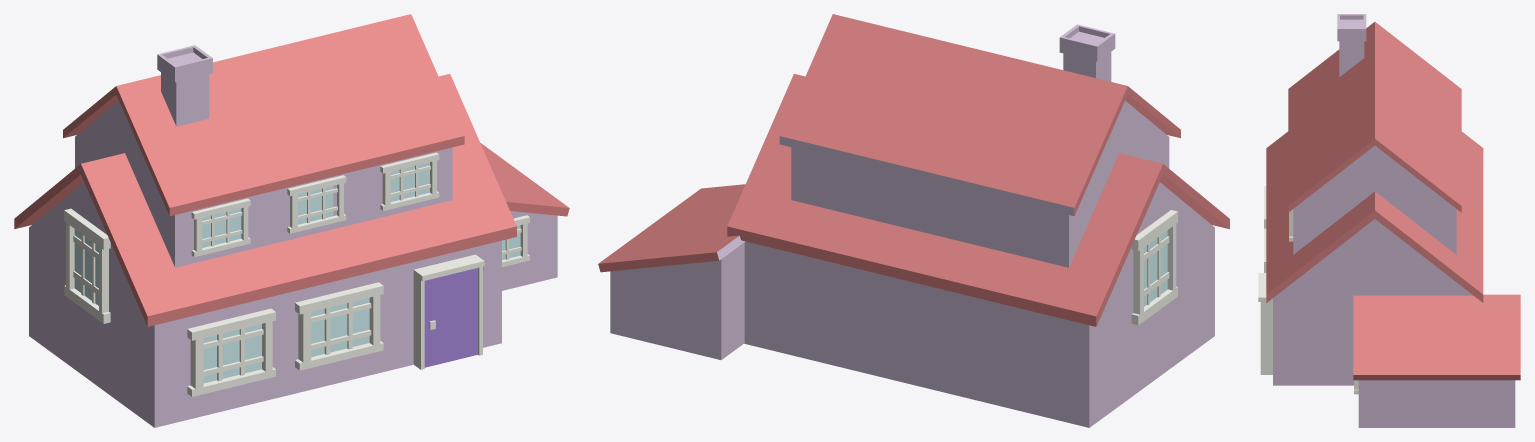
File: evdenemesi.fbx
3 views of the same model, side by side, from view 1: azimuth 30°, elevation 25°; view 2: azimuth 150°, elevation 25°; view 3: azimuth 270°, elevation 25° (orthographic). The views are drawn at different scales.
Visible parts, largest first — view 1: çatıbir, Cube.004, çatıiki, Cube.003, Cube.012, Cube.006, Cube.005, Cube.013, Cube.011, Cube.001, Cube, çatıüç (+10 smaller); view 2: Cube.004, çatıbir, çatıiki, Cube.003, Cube.001, çatıüç, Cube.011, Cube.013, Plane.008; view 3: çatıbir, Cube.004, çatıüç, çatıiki, Cube.003, Cube.001, Cube.013, Cube.
Part boxes in pixels (x1,y1,x2,y2): çatıbir: (63, 14, 464, 216); Cube.004: (29, 182, 501, 427); çatıiki: (14, 74, 516, 326); Cube.003: (75, 101, 452, 267); Cube.012: (424, 268, 477, 367); Cube.006: (295, 282, 383, 370); Cube.005: (187, 308, 275, 396); Cube.013: (157, 45, 212, 126); Cube.011: (64, 208, 110, 323); Cube.001: (502, 211, 557, 290); Cube: (413, 254, 484, 369); çatıüç: (480, 143, 569, 216); Cube.004: (744, 182, 1214, 427); çatıbir: (779, 14, 1180, 215); çatıiki: (727, 74, 1229, 326); Cube.003: (779, 100, 1169, 267); Cube.001: (610, 236, 745, 359); çatıüç: (598, 184, 745, 272); Cube.011: (1131, 210, 1177, 325); Cube.013: (1059, 24, 1115, 81); Plane.008: (1144, 230, 1167, 306); çatıbir: (1288, 22, 1461, 212); Cube.004: (1273, 219, 1472, 385); çatıüç: (1353, 294, 1520, 380); çatıiki: (1266, 131, 1483, 302); Cube.003: (1293, 146, 1456, 254); Cube.001: (1358, 380, 1515, 427); Cube.013: (1337, 14, 1366, 76); Cube: (1258, 273, 1272, 374).
Bounding box in the file's own units: 2494 × 1588 × 1465.
